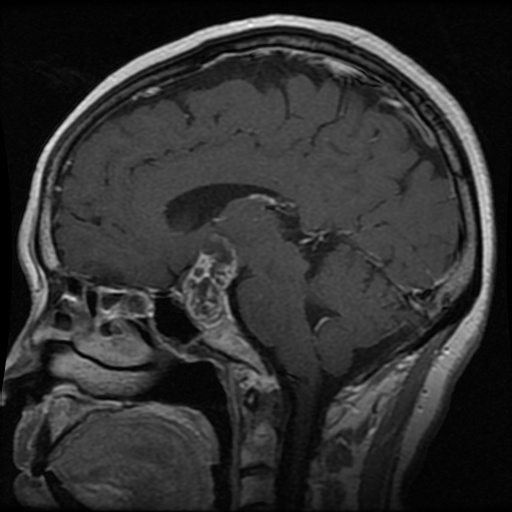pituitary: (180, 234, 236, 326)
